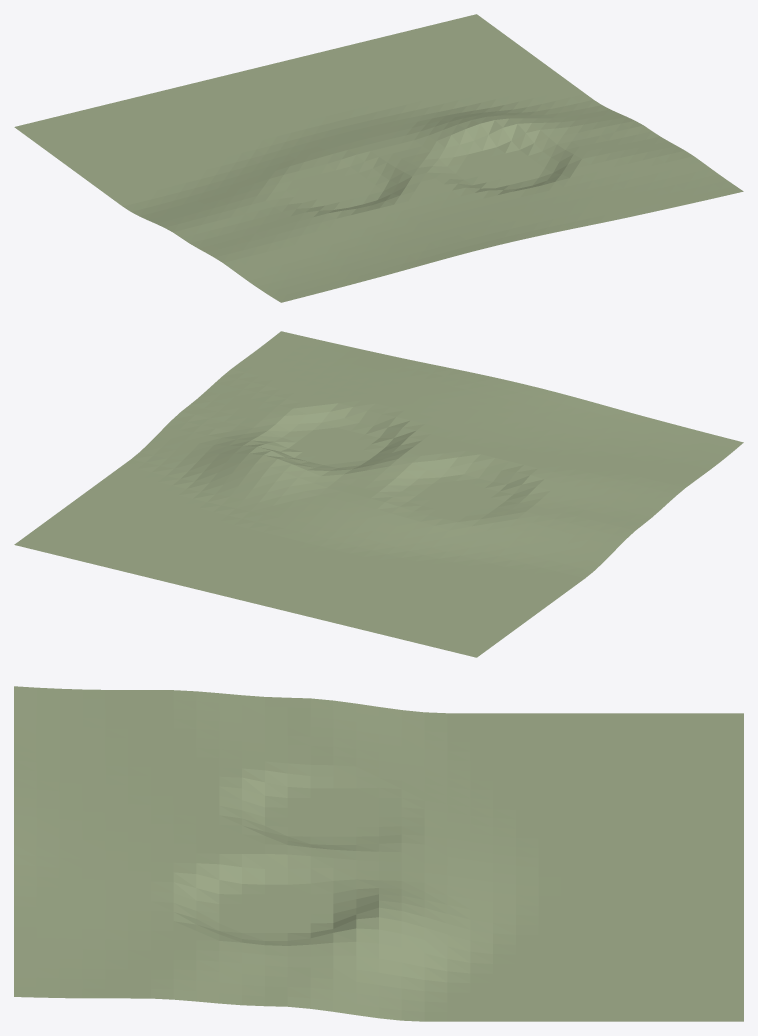
The model's file is coast-1-0.glb.
3 views of the same model, one above another, from view 1: azimuth 30°, elevation 25°; view 2: azimuth 150°, elevation 25°; view 3: azimuth 270°, elevation 25° (orthographic). The views are drawn at different scales.
Parts seen in each view (by area): view 1: coast-1-0; view 2: coast-1-0; view 3: coast-1-0.
Boxes of the visible parts, x1,y1,x2,y2 form: coast-1-0: [14, 14, 743, 302]; coast-1-0: [14, 331, 743, 657]; coast-1-0: [14, 686, 743, 1021].
Size of the model in its own units: 256 by 12.89 by 256.
